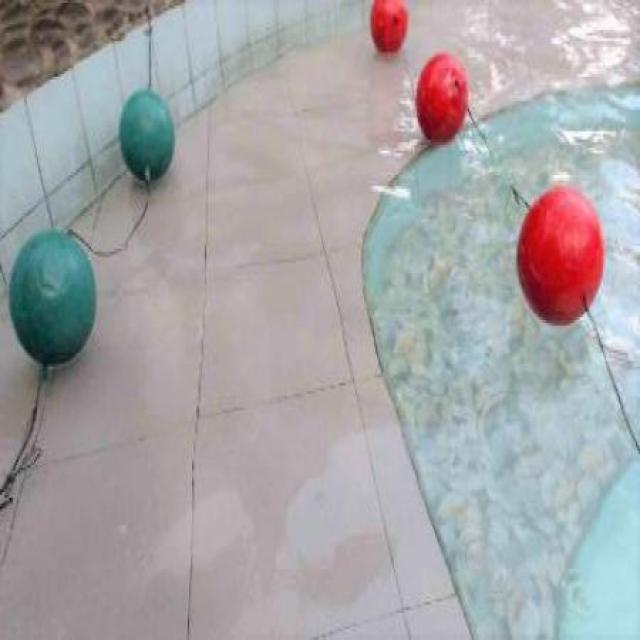buoy: (516, 184, 604, 326), (8, 230, 96, 366), (414, 50, 468, 146), (118, 89, 175, 178), (368, 0, 407, 60)
